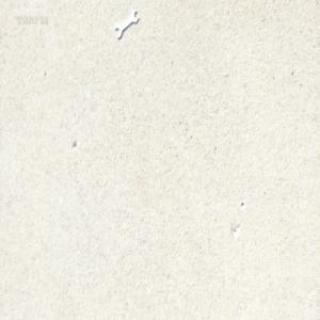Wrenchtrack_idkeyframe: (114, 8, 138, 38)
